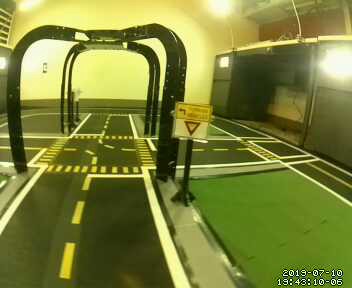Turn Yield: (174, 101, 211, 144)
